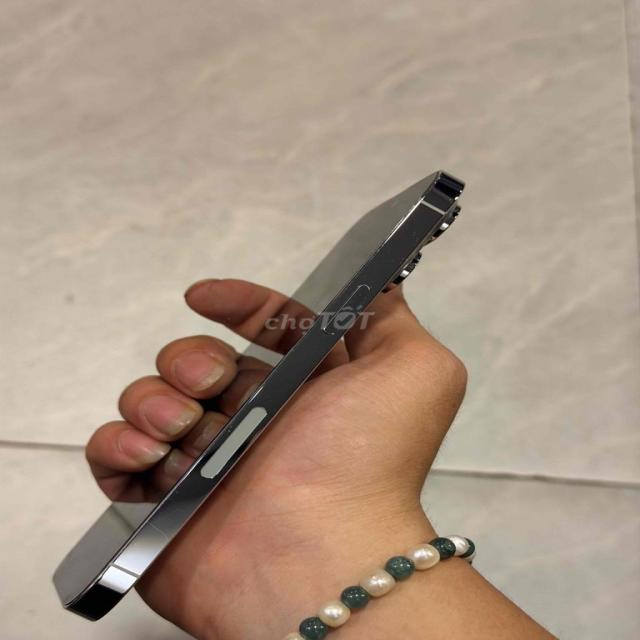gen_14: (53, 149, 478, 609)
